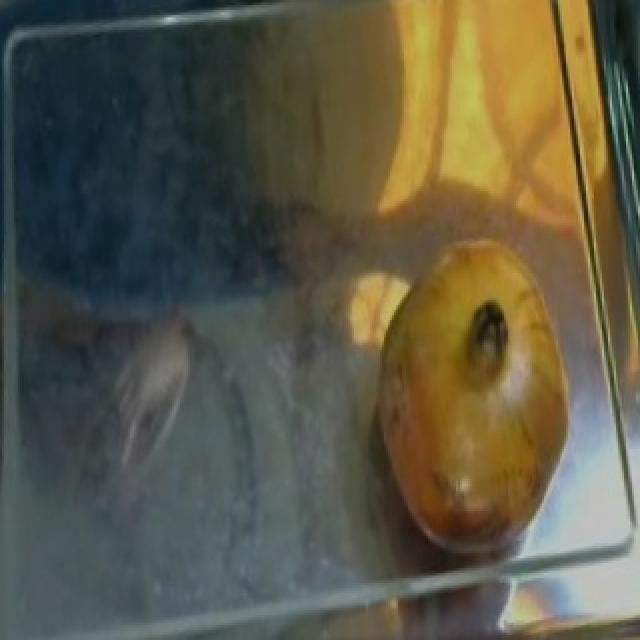fruit: (366, 216, 586, 439), (372, 365, 566, 578)
